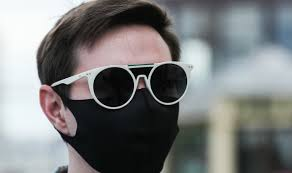with_mask: (37, 2, 195, 171)
